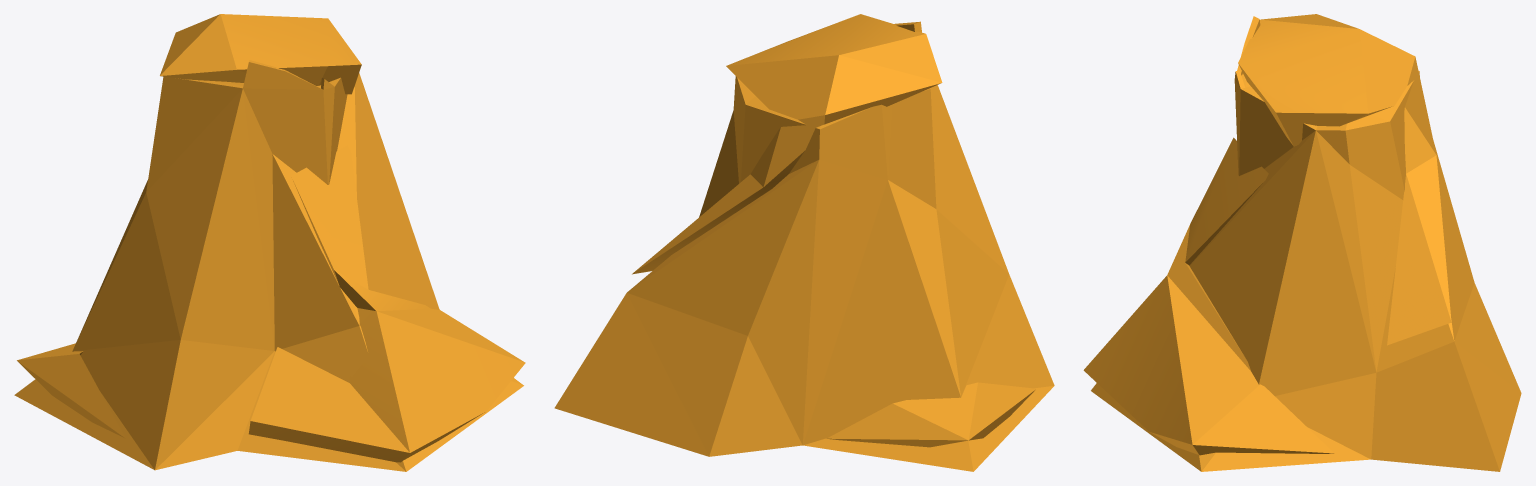
File: SM_Tree_Beech_Stump_A_Snow.fbx
3 renders of one model, left to right at view 1: azimuth 30°, elevation 25°; view 2: azimuth 150°, elevation 25°; view 3: azimuth 270°, elevation 25°, orthographic. The views are drawn at different scales.
Parts seen in each view (by area): view 1: tree-beech-stump-a-snow; view 2: tree-beech-stump-a-snow; view 3: tree-beech-stump-a-snow.
Boxes of the visible parts, bbox=[...] form: tree-beech-stump-a-snow: bbox=[14, 14, 525, 471]; tree-beech-stump-a-snow: bbox=[554, 14, 1054, 471]; tree-beech-stump-a-snow: bbox=[1083, 14, 1521, 471].
Size of the model in its own units: 0.8345 by 0.7434 by 0.8582.
